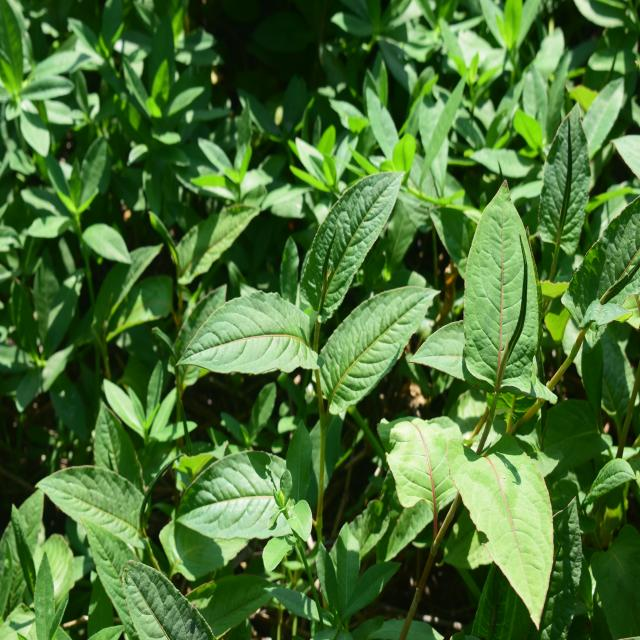Chinese_knotweed: (452, 129, 605, 638), (182, 162, 418, 409)
